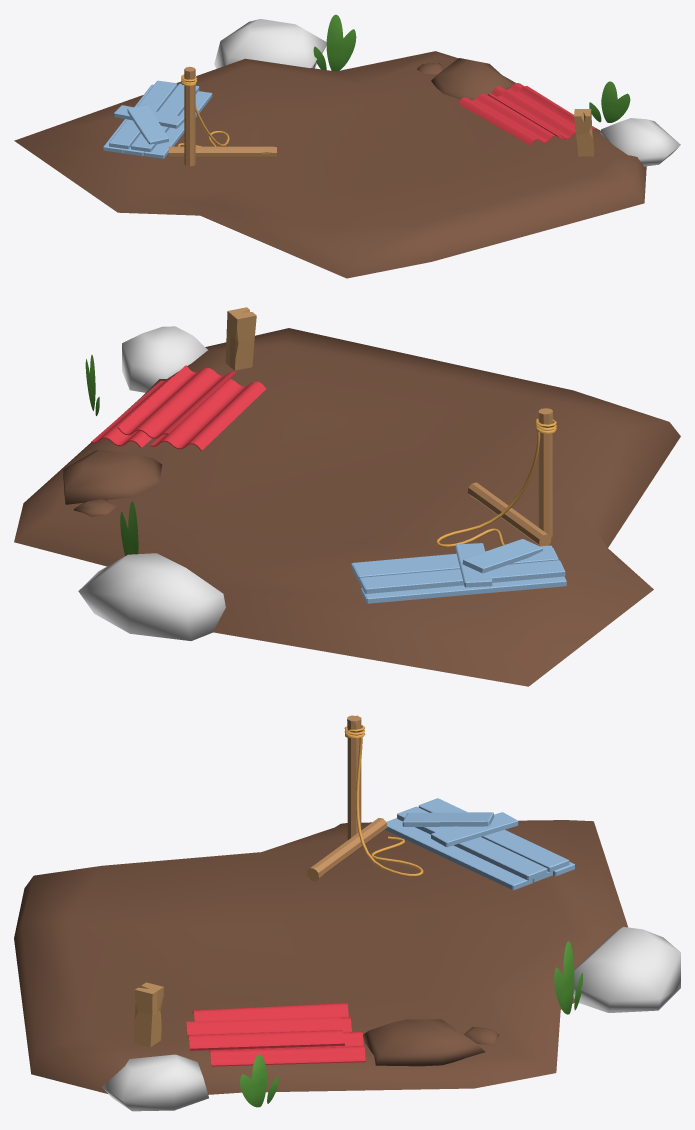
File: SM_Construction_03.fbx
3 renders of one model, top to bottom at view 1: azimuth 30°, elevation 25°; view 2: azimuth 150°, elevation 25°; view 3: azimuth 270°, elevation 25°, orthographic. The views are drawn at different scales.
Visible parts, largest first — view 1: Cube.149, Stone_01.018, Cube.485, Stone_01.020, Cylinder.038, Plane.025, Plane.024, Grass.017, Grass.018, Cube.480; view 2: Cube.149, Stone_01.018, Cube.485, Stone_01.020, Plane.025, Plane.024, Cylinder.038, Cube.480, Plane.023, BezierCurve.010, Grass.017; view 3: Cube.149, Stone_01.018, Cube.485, Stone_01.020, Plane.025, Plane.023, Cylinder.038, Plane.024, Cube.480, Grass.017, Grass.018, BezierCurve.010.
Part boxes in pixels (x1,y1,x2,y2): Cube.149: (14,51,646,278); Stone_01.018: (214,19,680,166); Cube.485: (103,80,212,158); Stone_01.020: (417,58,512,100); Cylinder.038: (168,66,276,166); Plane.025: (488,86,592,139); Plane.024: (458,93,564,145); Grass.017: (313,14,356,71); Grass.018: (589,81,630,122); Cube.480: (574,109,594,156); Cube.149: (14,328,680,686); Stone_01.018: (78,326,225,640); Cube.485: (351,539,566,603); Stone_01.020: (63,449,162,516); Plane.025: (117,365,236,438); Plane.024: (150,379,266,450); Cylinder.038: (468,408,552,546); Cube.480: (225,307,256,370); Plane.023: (91,376,172,447); BezierCurve.010: (436,431,540,547); Grass.017: (120,501,138,555); Cube.149: (14,820,627,1094); Stone_01.018: (102,927,680,1111); Cube.485: (385,798,574,890); Stone_01.020: (363,1019,499,1066); Plane.025: (186,1016,344,1050); Plane.023: (209,1031,365,1066); Cylinder.038: (307,715,387,881); Plane.024: (192,1003,352,1032); Cube.480: (134,982,163,1047); Grass.017: (554,941,582,1014); Grass.018: (240,1054,278,1107); BezierCurve.010: (356,737,423,876).
Bounding box in the file's own units: 15.96 × 3.86 × 15.11.
